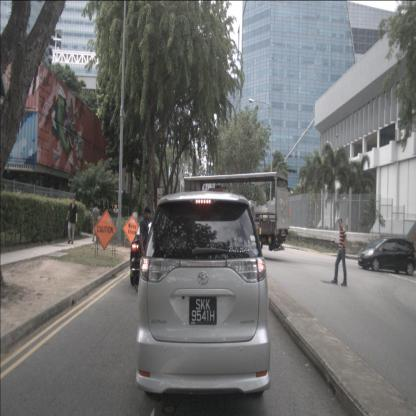human-pedestrian-adult: (133, 207, 151, 293), (330, 218, 348, 286), (66, 196, 78, 244), (91, 203, 100, 243)
vehicle-car: (136, 188, 272, 401), (130, 218, 170, 287), (358, 235, 415, 278)
vehicle-truck: (167, 171, 290, 256)
